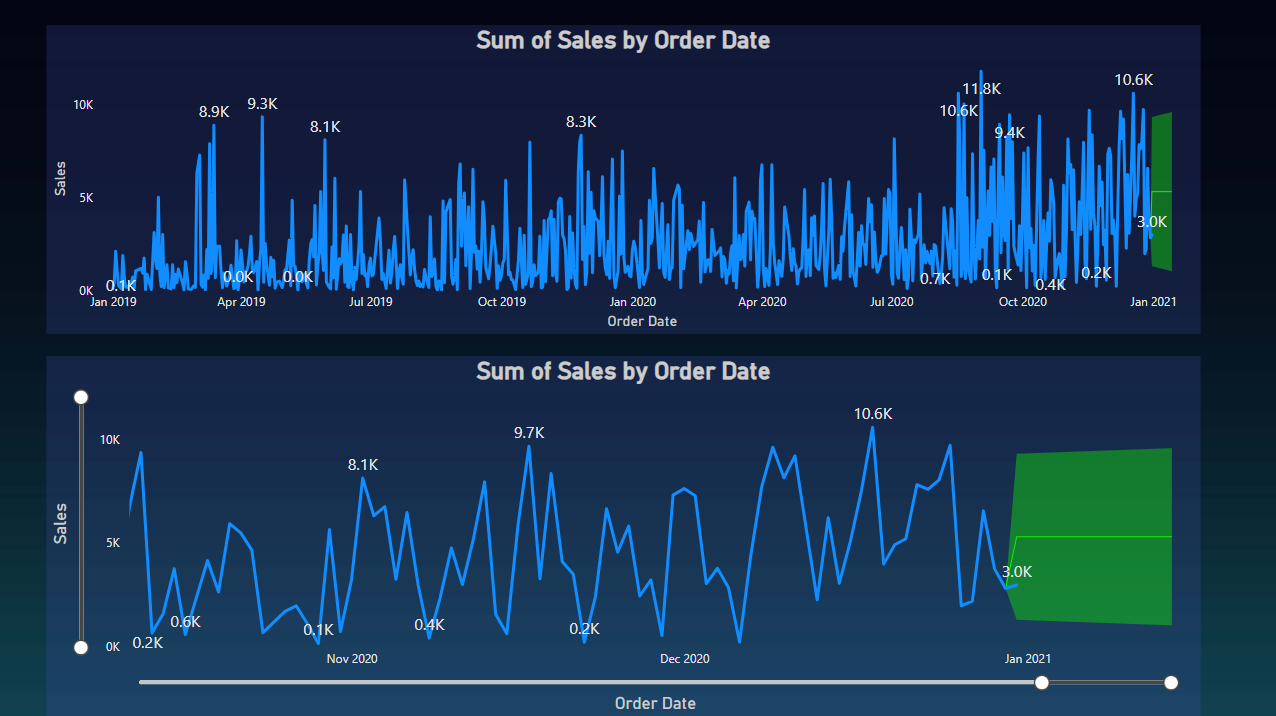

The page's visual inventory and layout, read from the dashboard file:
{"tool":"powerbi","page":{"name":"Page 2","canvas":[1280,720],"ordinal":1},"visuals":[{"type":"lineChart","fields":{"Y":["Sum(SuperStore_Sales_Dataset.Sales)"],"Category":["SuperStore_Sales_Dataset.Order Date"]},"box":[50,360.3,1151.7,360.3],"z":0},{"type":"lineChart","fields":{"Y":["Sum(SuperStore_Sales_Dataset.Sales)"],"Category":["SuperStore_Sales_Dataset.Order Date"]},"box":[50,29.3,1151.7,308.6],"z":1000}]}

Visuals, with their boxes in screenshot pixels (x1, y1, x2, y2), scaled from the page's 1280x720 canvas onto the 1276x716 screenshot:
lineChart - Sum(SuperStore_Sales_Dataset.Sales) x SuperStore_Sales_Dataset.Order Date: 50, 358, 1198, 715
lineChart - Sum(SuperStore_Sales_Dataset.Sales) x SuperStore_Sales_Dataset.Order Date: 50, 29, 1198, 336
